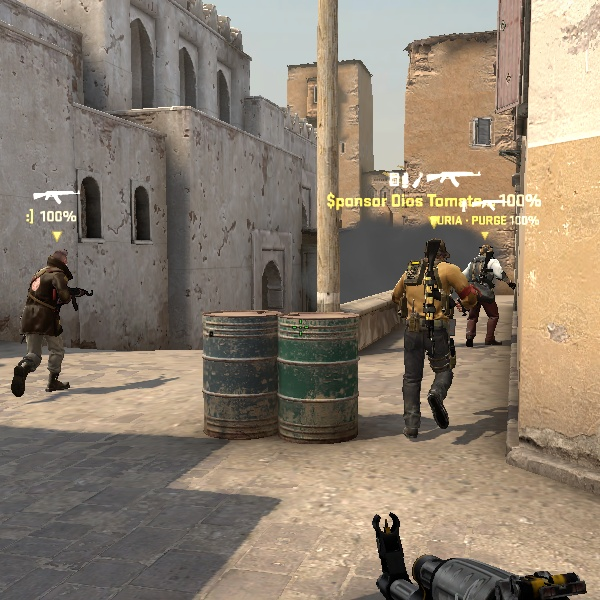t_body: (372, 235, 488, 442), (9, 245, 101, 397), (453, 237, 523, 348)
t_head: (420, 234, 461, 276), (41, 242, 80, 284), (473, 239, 501, 268)
